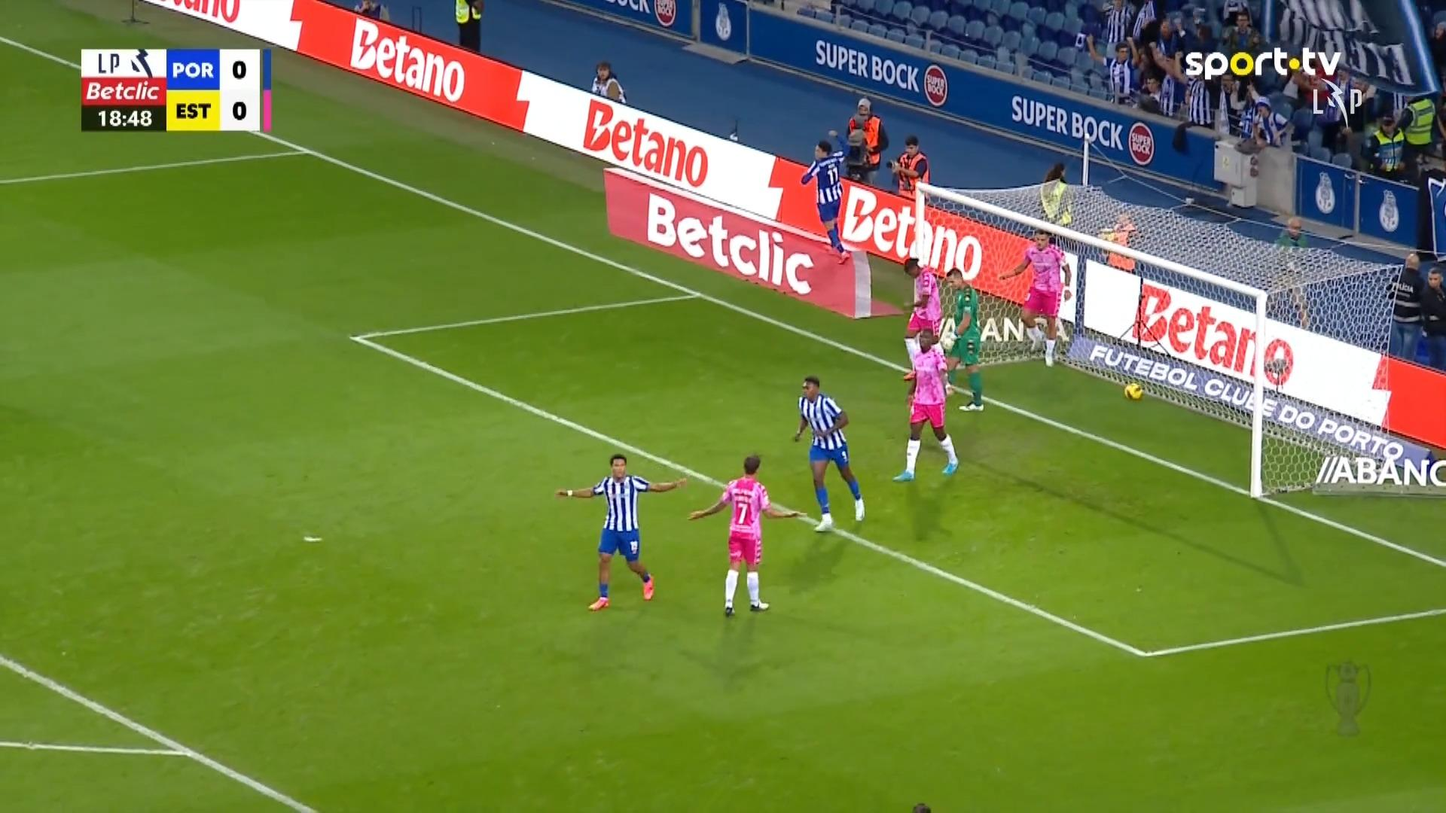ball: (1124, 382, 1142, 400), (1033, 315, 1048, 331)
player: (553, 452, 687, 611), (687, 452, 801, 617), (792, 374, 865, 531), (997, 227, 1072, 367), (892, 328, 959, 482), (938, 266, 984, 412), (800, 139, 852, 265), (901, 255, 945, 381)
